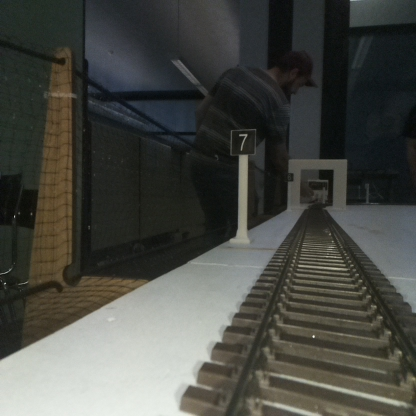black-info-7: (230, 129, 255, 242)
